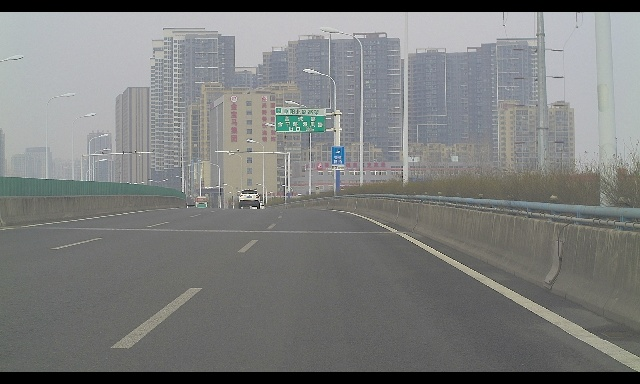bus: (194, 196, 208, 208)
car: (237, 189, 262, 209), (249, 201, 265, 209)
